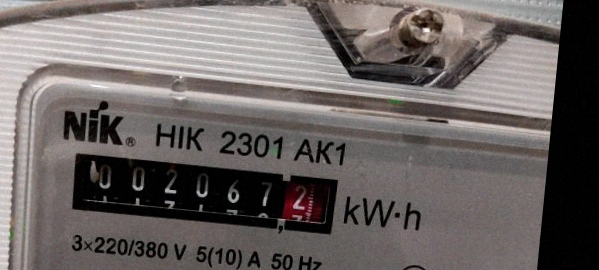0: (93, 160, 114, 191), (190, 168, 211, 197), (127, 162, 147, 192)
2: (288, 180, 309, 211), (160, 165, 180, 195)
6: (222, 174, 243, 205)
7: (255, 177, 274, 209)
screen: (54, 138, 353, 248)
